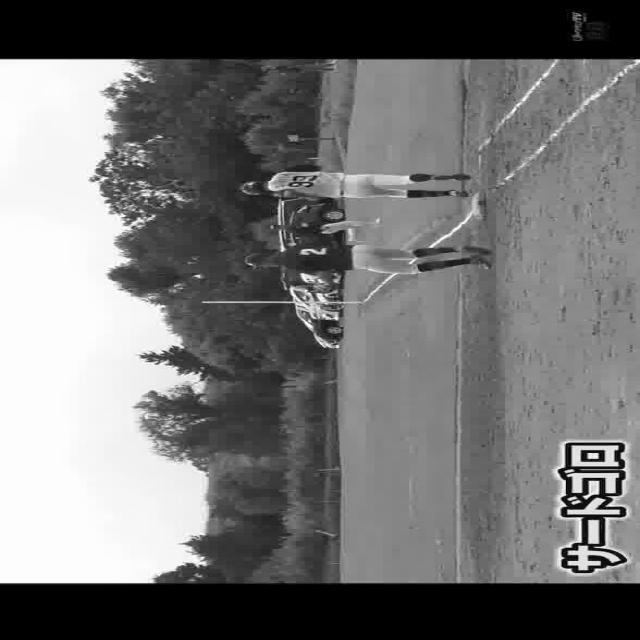base: (468, 188, 494, 222)
baseball_glove: (294, 275, 346, 295)
shoe: (454, 242, 494, 258), (466, 254, 498, 268), (428, 173, 472, 181), (449, 185, 462, 198)
